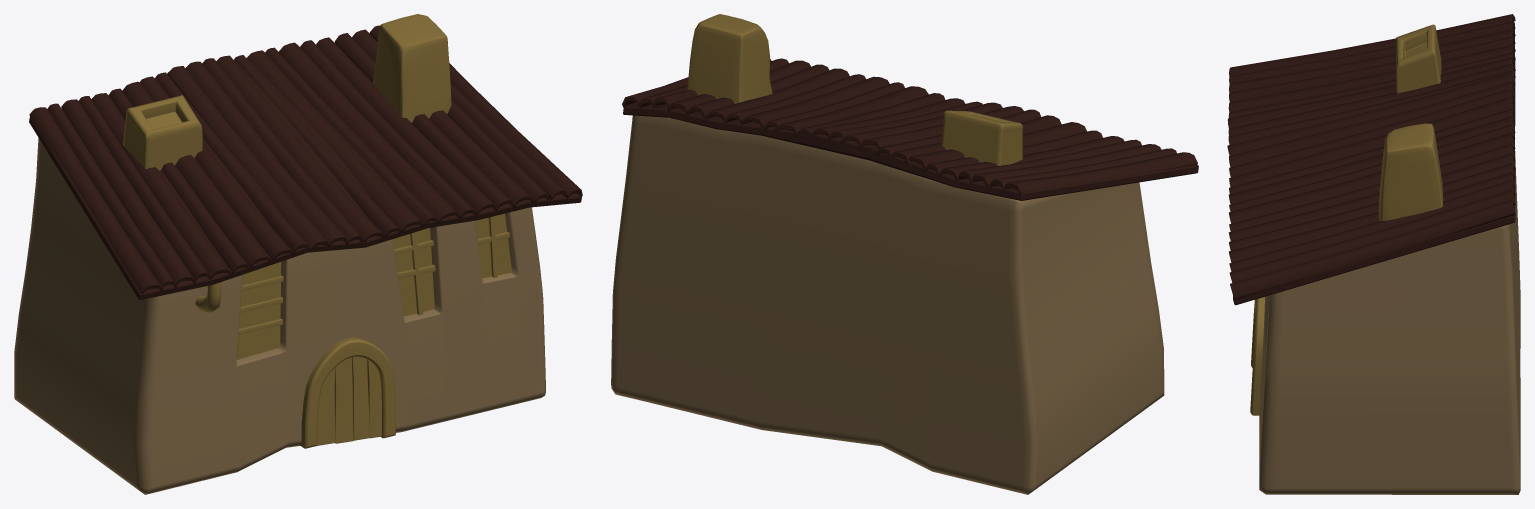
Rendered from P_HouseOne.obj.
The picture shows the model from 3 angles, left to right: view 1: azimuth 30°, elevation 25°; view 2: azimuth 150°, elevation 25°; view 3: azimuth 270°, elevation 25°; orthographic projection. The views are drawn at different scales.
Visible parts, largest first — view 1: HouseOne2_group1_roof_pCube26; view 2: HouseOne2_group1_roof_pCube26; view 3: HouseOne2_group1_roof_pCube26.
Part boxes in pixels (bbox=[...]): HouseOne2_group1_roof_pCube26: bbox=[14, 14, 582, 494]; HouseOne2_group1_roof_pCube26: bbox=[611, 14, 1198, 494]; HouseOne2_group1_roof_pCube26: bbox=[1227, 14, 1520, 494].
Size of the model in its own units: 4.43 by 3.18 by 2.53.
